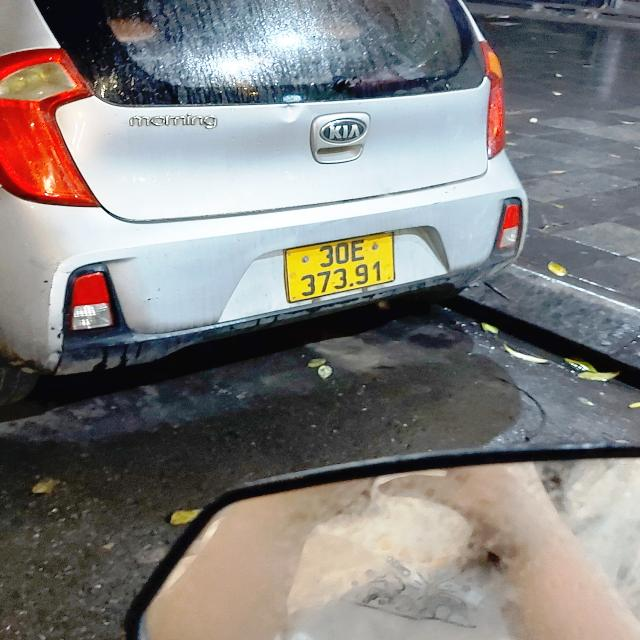license_plate: (282, 230, 399, 305)
